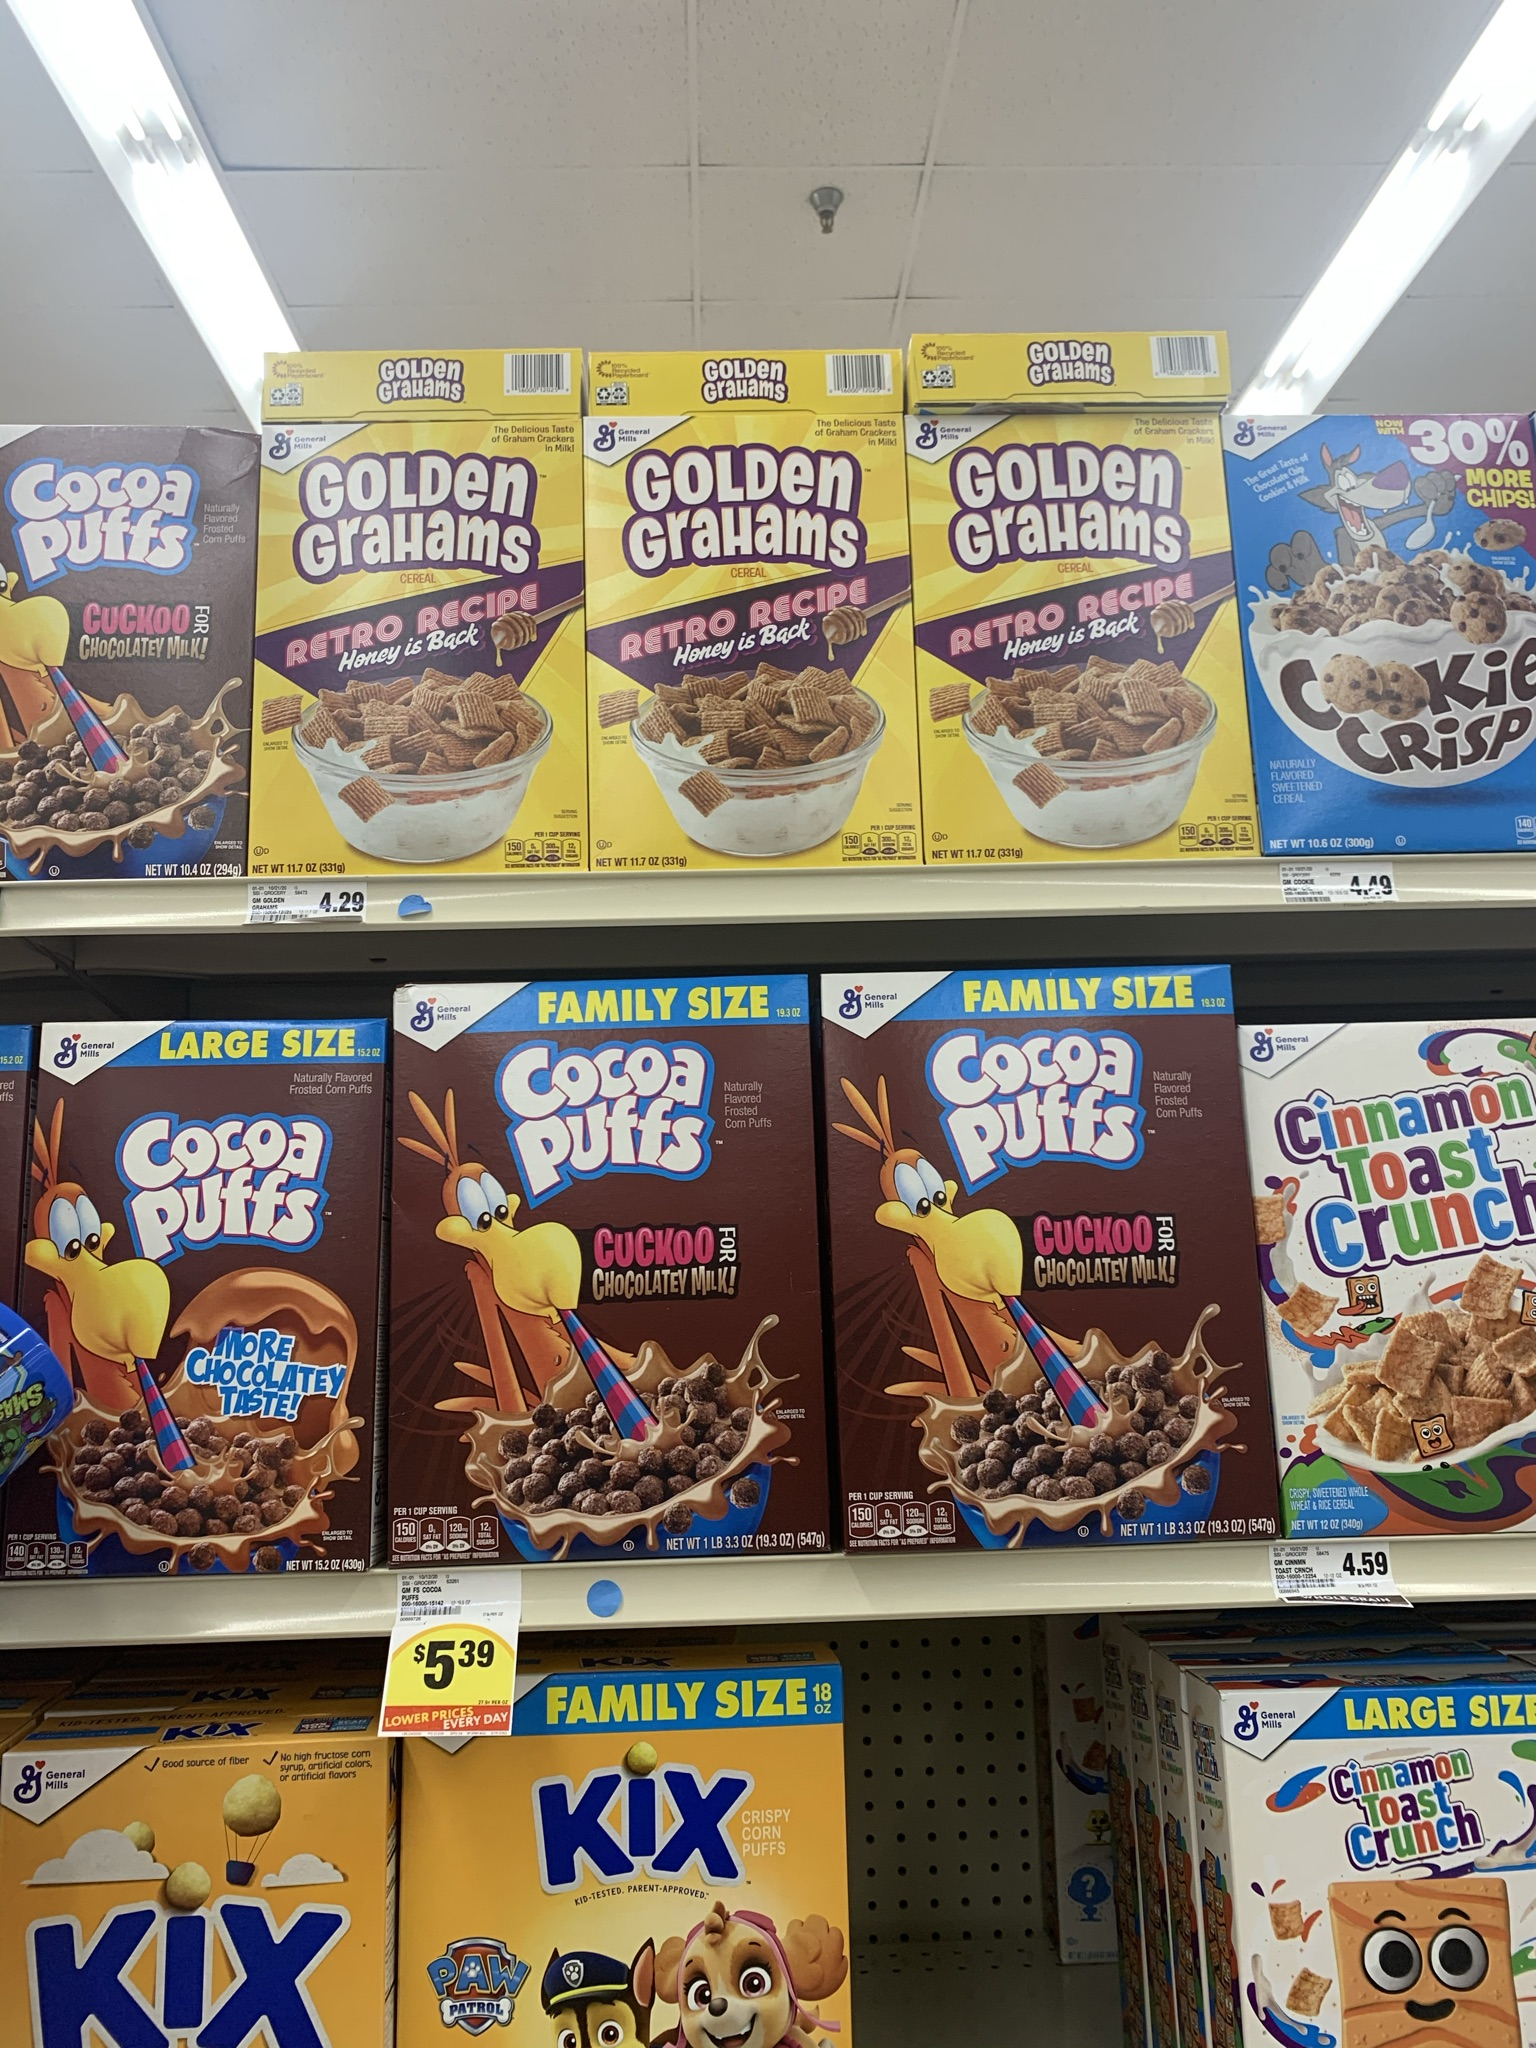Cereal: (394, 987, 815, 1548), (34, 1006, 378, 1580), (395, 1684, 857, 2048), (908, 411, 1270, 863), (253, 414, 591, 884), (586, 414, 925, 872), (1199, 1650, 1536, 2048), (3, 414, 252, 880)
